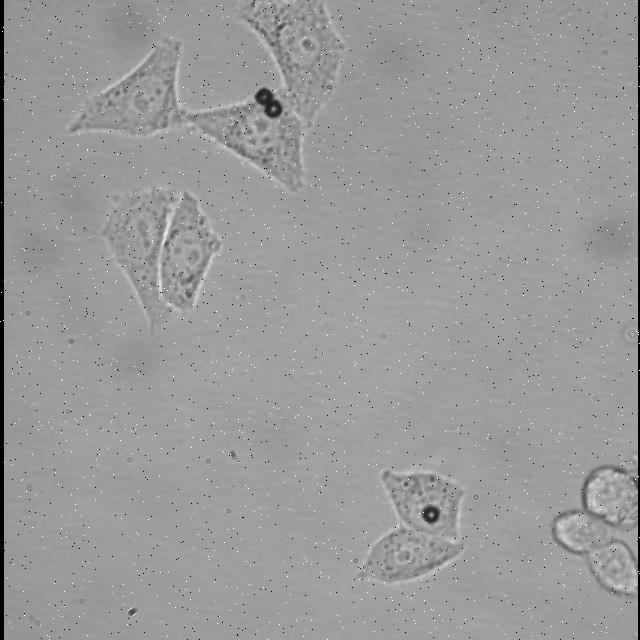microbeads: (264, 96, 284, 120), (422, 506, 438, 524), (254, 86, 270, 102)
